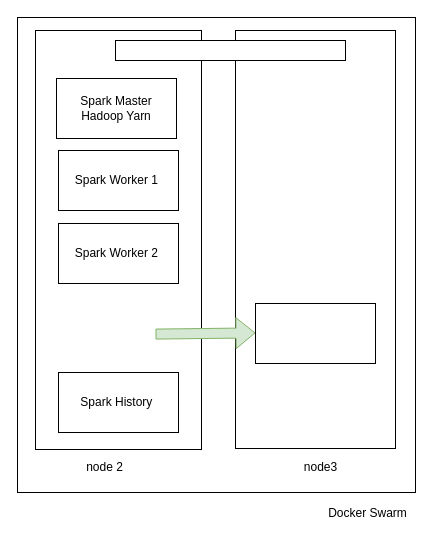
The diagram is 433 pixels wide and 544 high, and some of its shapes have lost their labels. Here are the shapes that lost their labels. From the top down, the centre of each, then its label:
the point at 230,50: Overlay Network
the point at 315,333: Spark Worker 3
